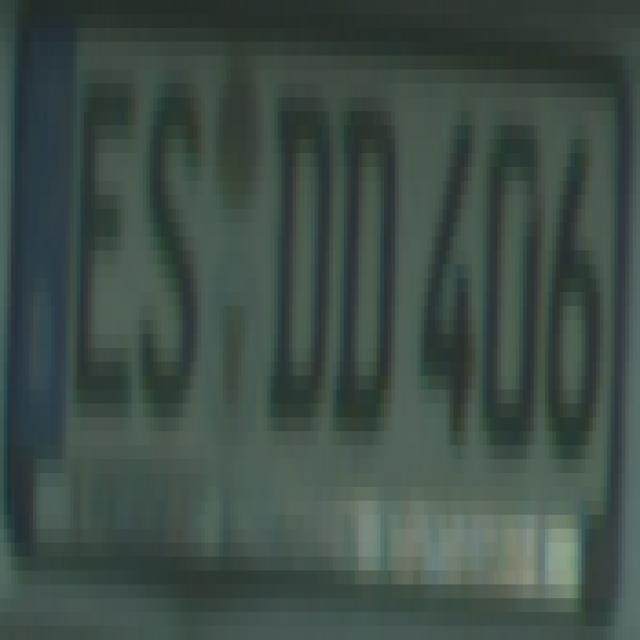Allemagne: (4, 10, 74, 468)
EU: (6, 14, 627, 532)
